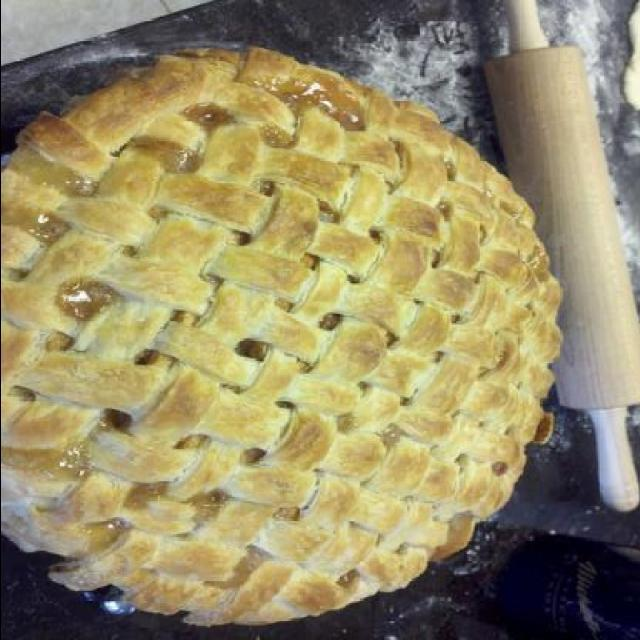Apple: (2, 43, 564, 626)
